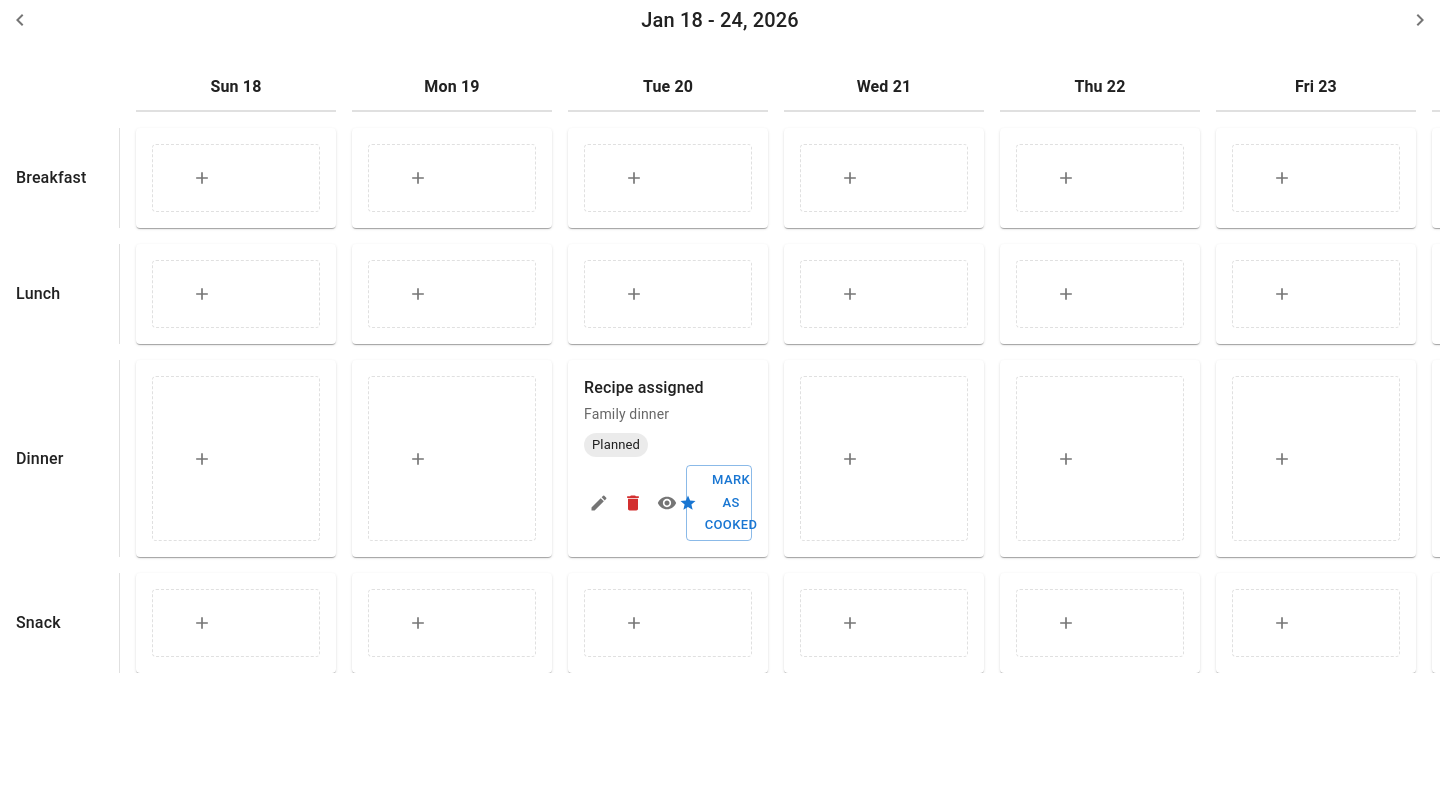
Test: CalendarWeekView › should open edit dialog when Edit button clicked
This screenshot has width=1440, height=810.
What coordinates should you click on to do the following:
click the button named "edit calendar entry"
I would click on:
 (599, 503)
Its box is [584,465,614,541].
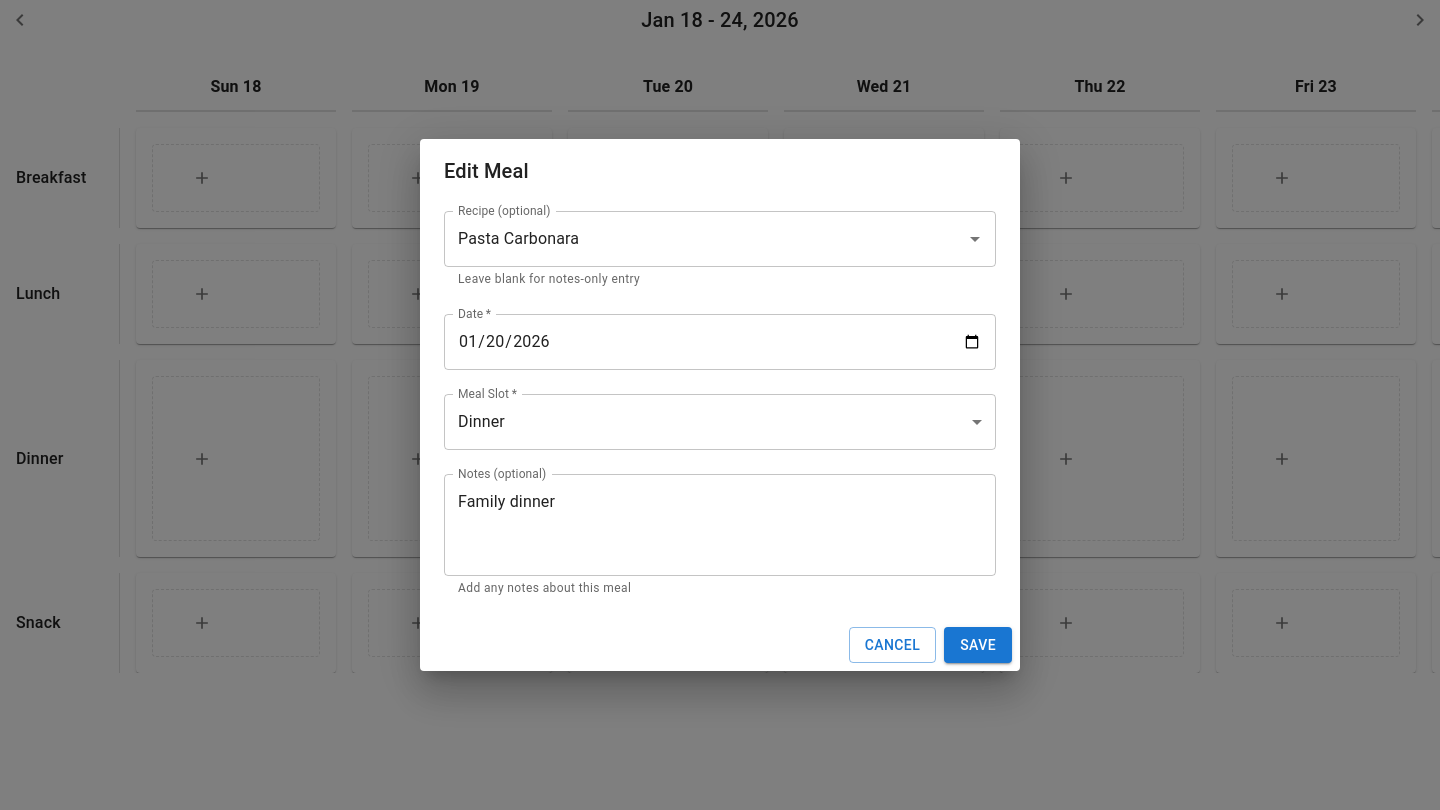
expect the heading "Edit Meal" is shown: met, box [444,159,529,183]
